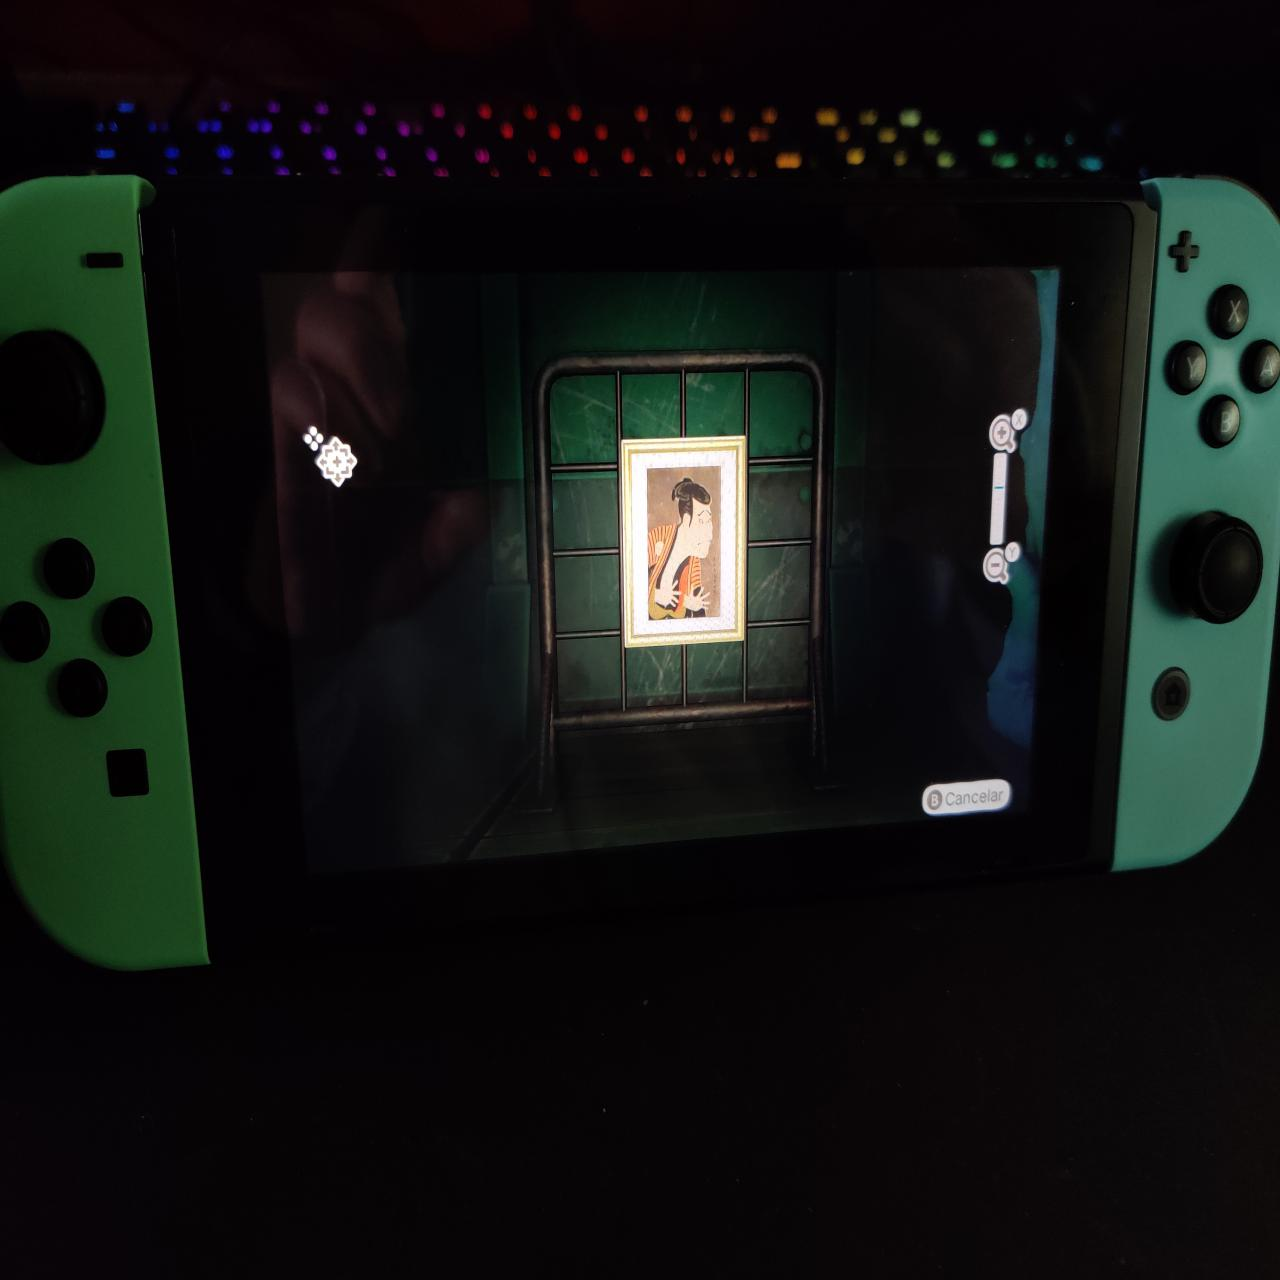OotaniOnijiFake: (651, 470, 722, 624)
